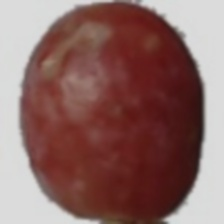grapes: (19, 13, 203, 197)
